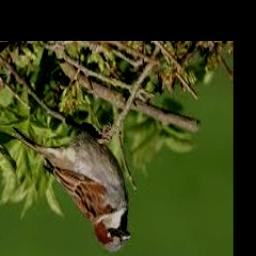Sparrow: (11, 125, 131, 252)
